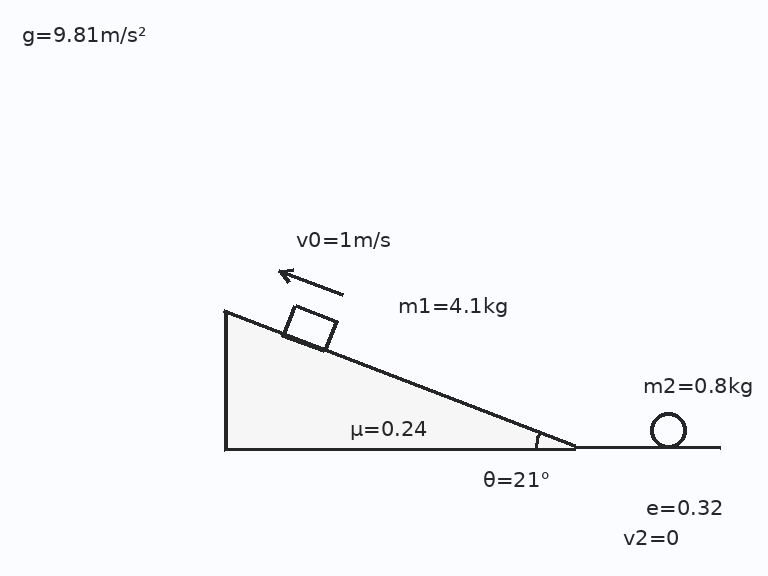ball: (648, 410, 688, 450)
block: (281, 303, 337, 353)
ramp: (222, 311, 578, 450)
